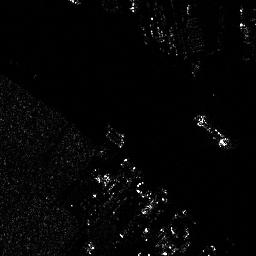ship: (192, 112, 232, 150)
